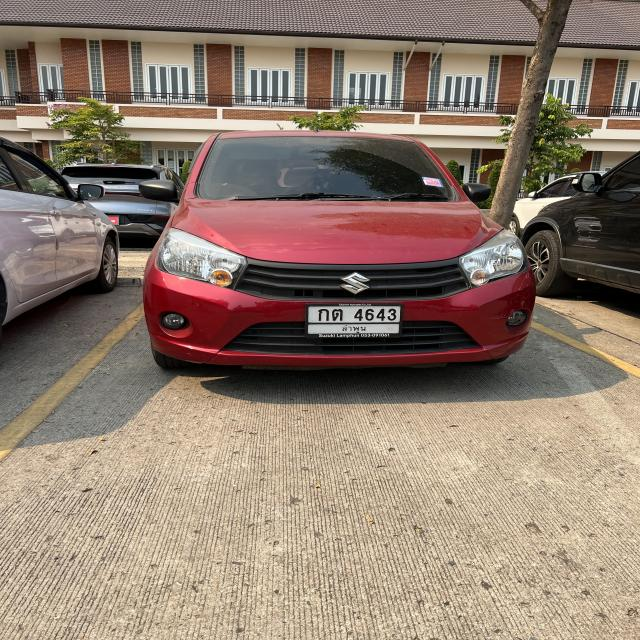license_plate: (302, 301, 404, 341)
